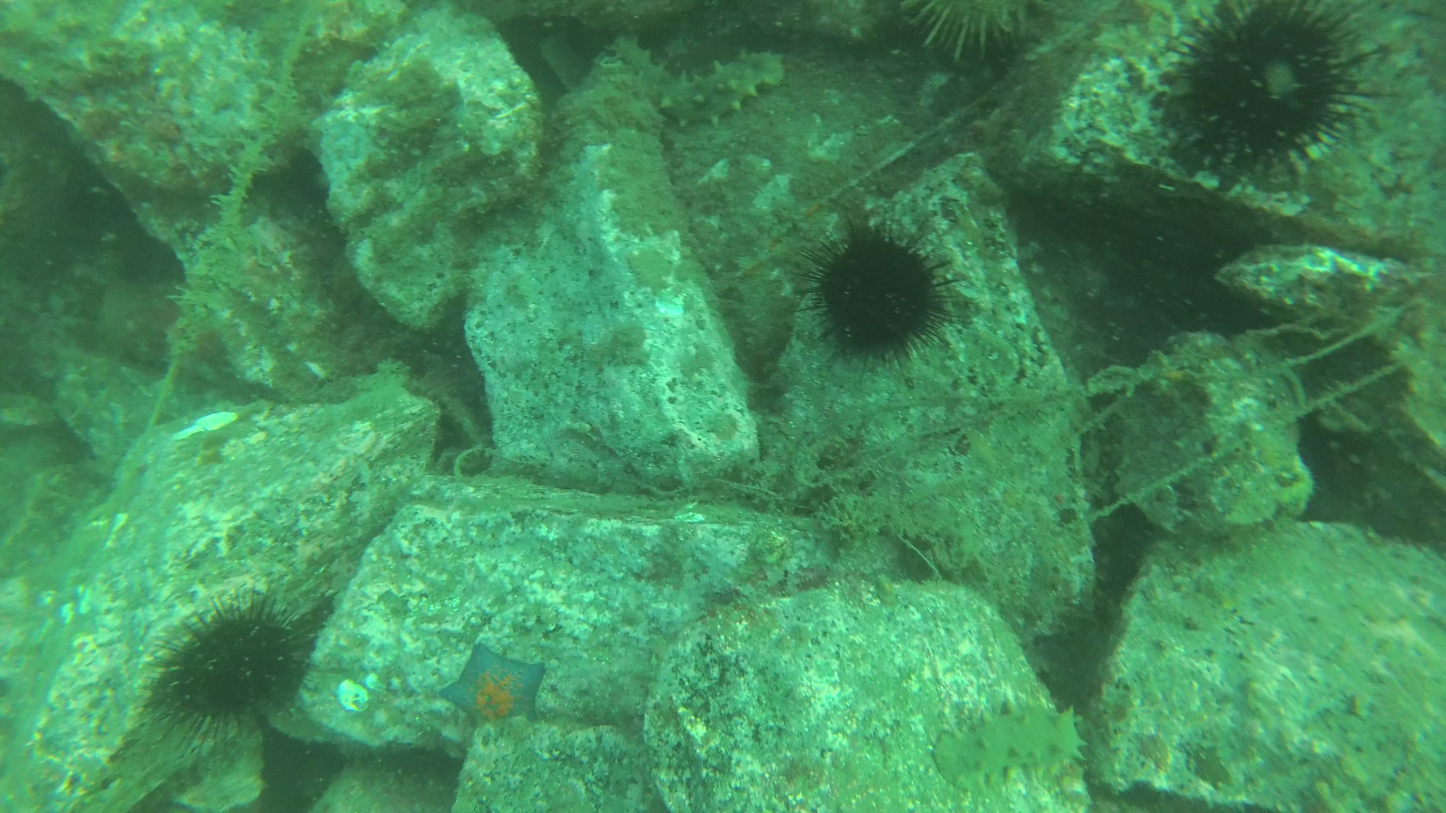echinus: (926, 692, 1092, 788), (660, 47, 791, 131), (604, 37, 672, 99)
holothurian: (430, 644, 554, 735)
starfish: (1153, 4, 1402, 199), (778, 200, 973, 388), (143, 596, 333, 764), (895, 0, 1047, 65)
